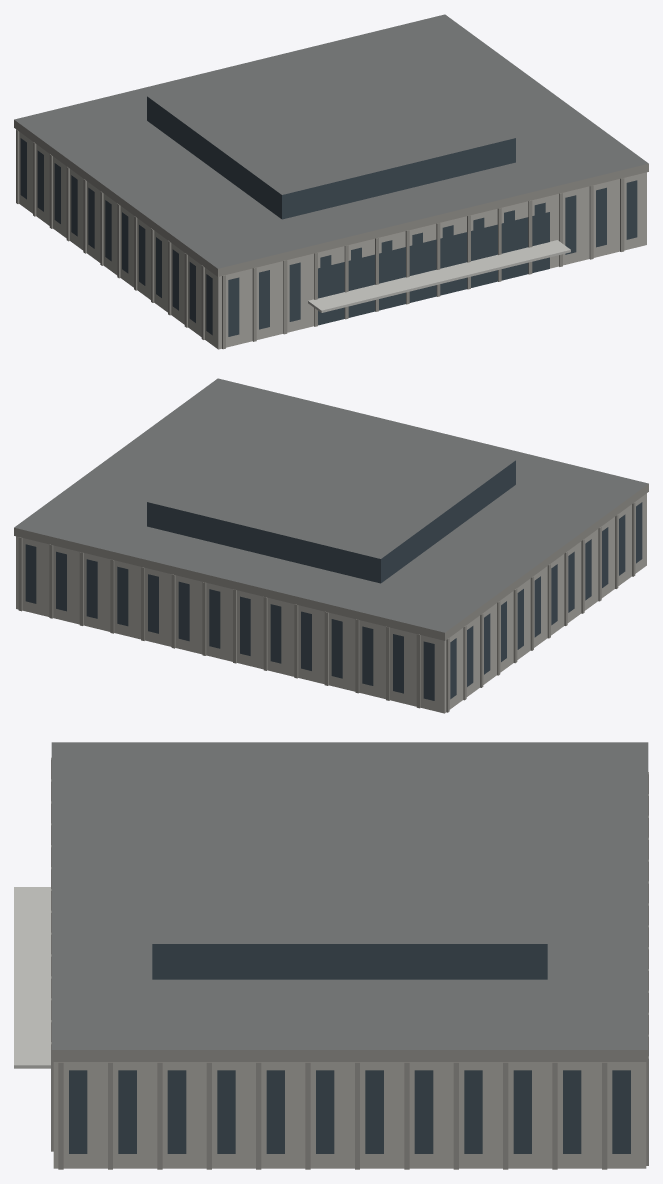
Rendered from seattle_center_armory.glb.
3 renders of one model, top to bottom at view 1: azimuth 30°, elevation 25°; view 2: azimuth 150°, elevation 25°; view 3: azimuth 270°, elevation 25°, orthographic. The views are drawn at different scales.
Parts seen in each view (by area): view 1: seattle_center_armory; view 2: seattle_center_armory; view 3: seattle_center_armory.
Part boxes in pixels (bbox=[...]): seattle_center_armory: bbox=[14, 14, 648, 349]; seattle_center_armory: bbox=[14, 378, 648, 713]; seattle_center_armory: bbox=[14, 742, 648, 1169].
Size of the model in its own units: 111 by 26 by 96.4.
1 material, 1 textured.
